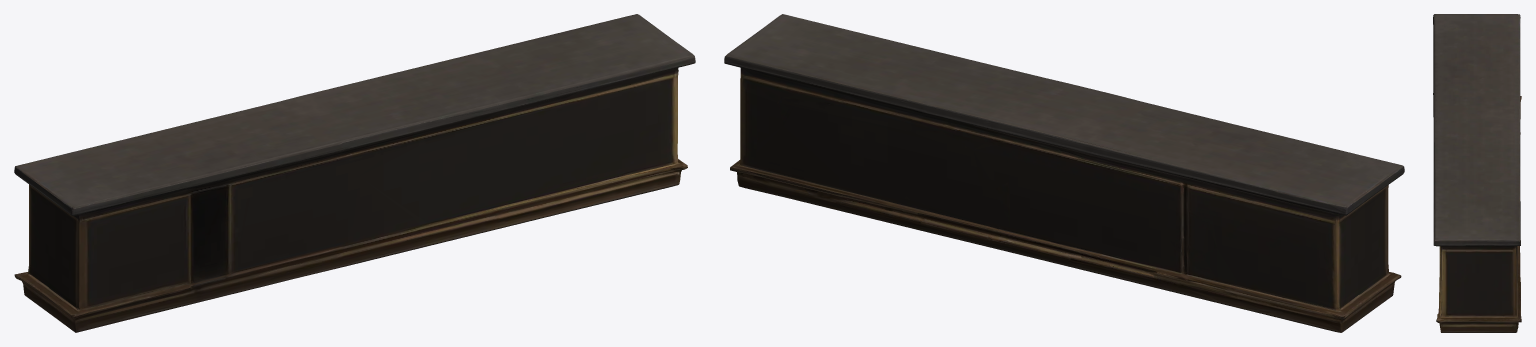
Rendered from wall_cabinet_dark.glb.
3 views of the same model, side by side, from view 1: azimuth 30°, elevation 25°; view 2: azimuth 150°, elevation 25°; view 3: azimuth 270°, elevation 25° (orthographic). The views are drawn at different scales.
Parts seen in each view (by area): view 1: geometry_0; view 2: geometry_0; view 3: geometry_0.
Part boxes in pixels (x1=…): geometry_0: x1=14, y1=14, x2=695, y2=332; geometry_0: x1=724, y1=14, x2=1404, y2=332; geometry_0: x1=1433, y1=14, x2=1521, y2=332.
Size of the model in its own units: 1 by 0.2004 by 0.1651.
Materials: 1 (1 with a texture image).
